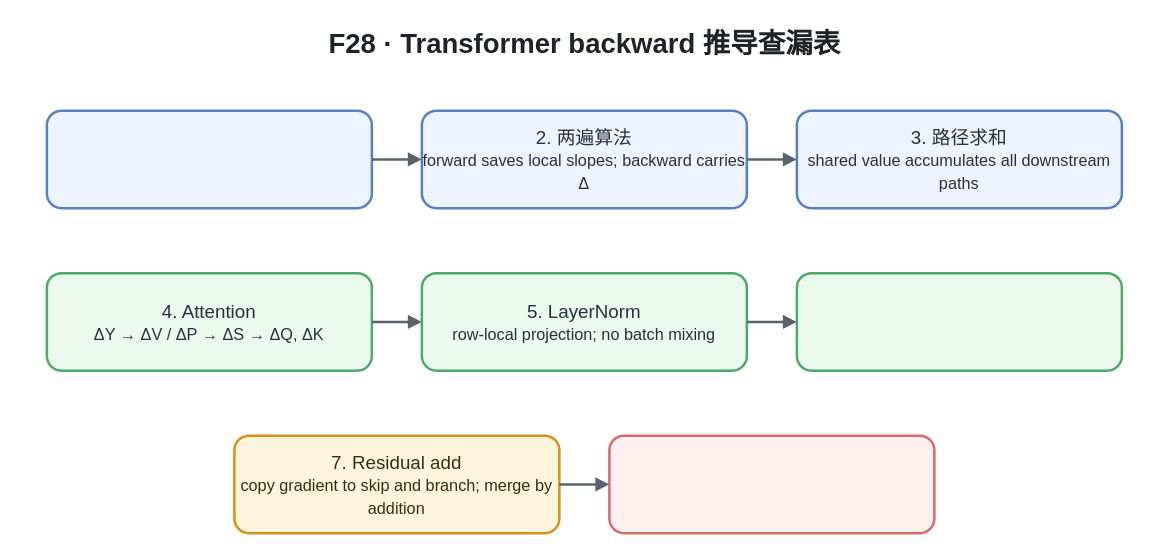
This 1168x555 diagram has some shape labels left out. The shapes that lost their labels are listed below. From the top down, each one's box as (x1, y1, x2, y2) in pixels, then its label:
(45, 109, 372, 209): 1. 完整梯度 SGD needs ∇θL, not one derivative
(795, 271, 1122, 371): 6. LoRA freeze W0; update D and U only
(608, 434, 935, 534): 8. Audit habit write dA first, then collect each variable coefficient
